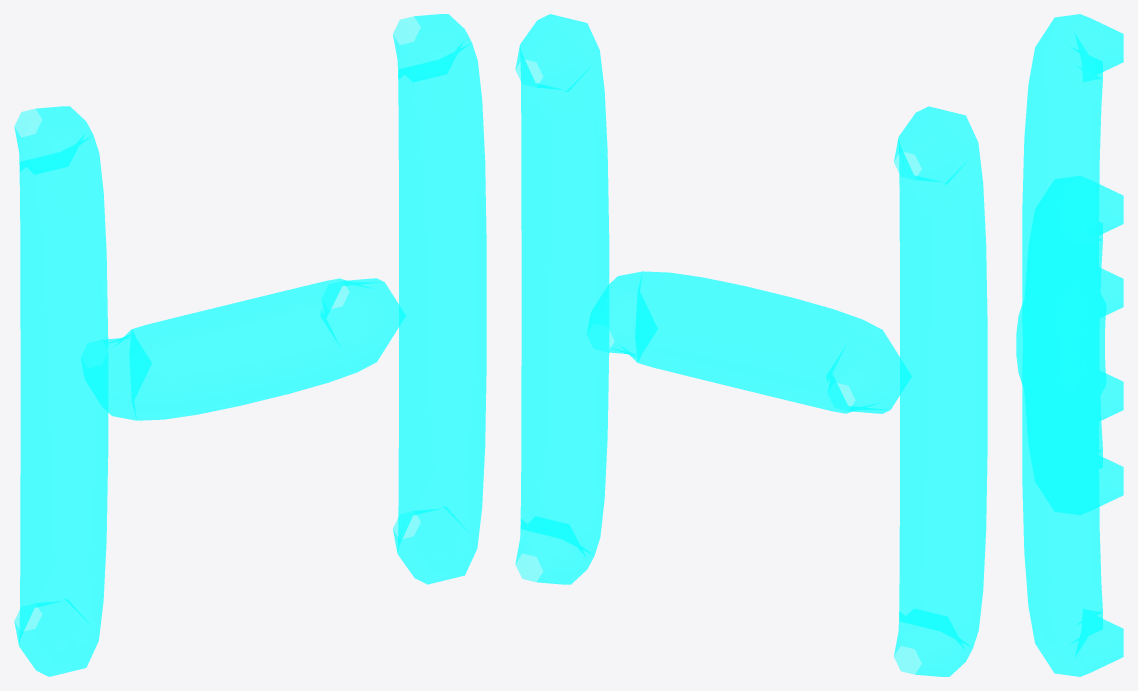
3 renders of one model, left to right at view 1: azimuth 30°, elevation 25°; view 2: azimuth 150°, elevation 25°; view 3: azimuth 270°, elevation 25°, orthographic. The views are drawn at different scales.
Parts seen in each view (by area): view 1: Object_22; view 2: Object_22; view 3: Object_22.
Boxes of the visible parts, x1,y1,x2,y2 form: Object_22: (14,14,486,676); Object_22: (515,14,987,676); Object_22: (1016,14,1123,676).
Bounding box in the file's own units: 0.7503 × 0.8552 × 0.1708.
